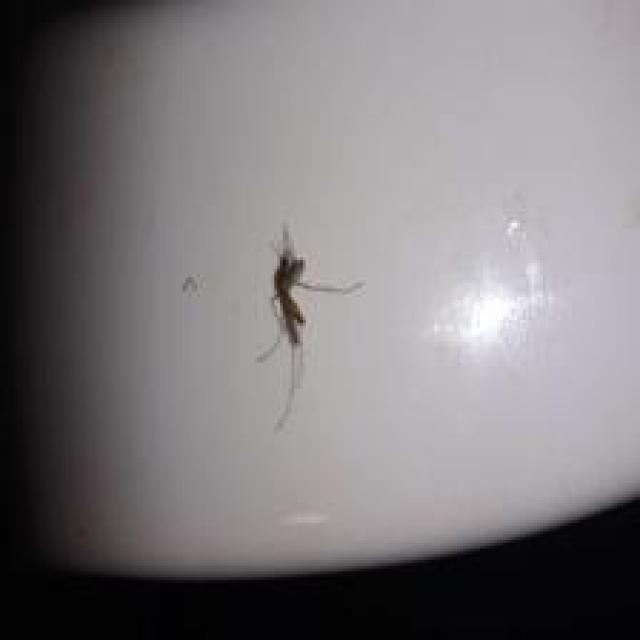Culex: (253, 221, 364, 430)
